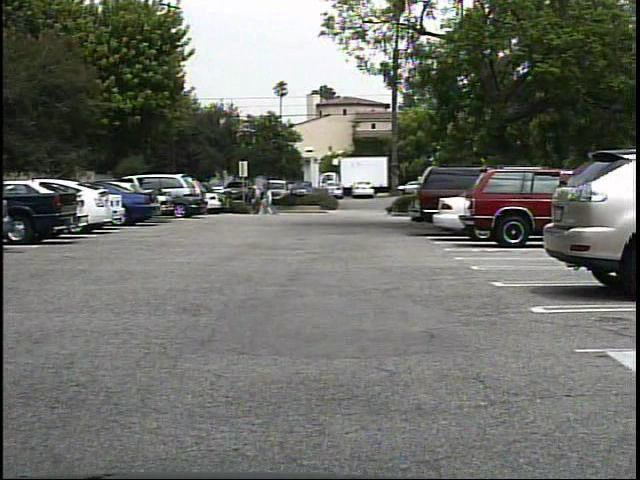person: (249, 185, 265, 216), (266, 185, 280, 218), (259, 185, 271, 216)
